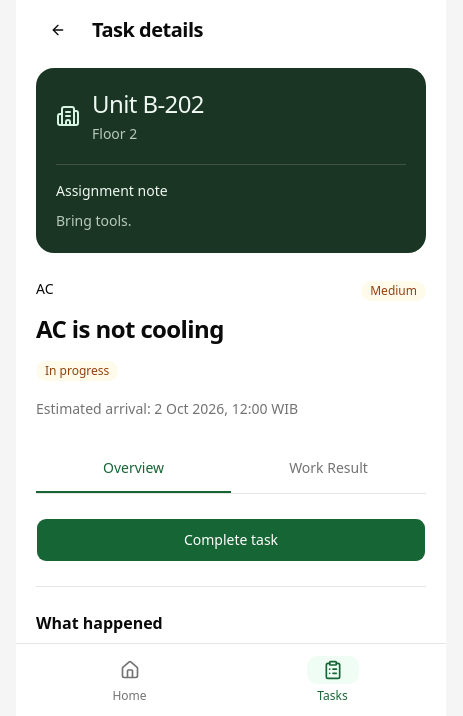
it: uses the detail action to open the separate completion route and exact authenticated GET
Click the link "Complete task".
click(231, 540)  # box [36,518,426,562]
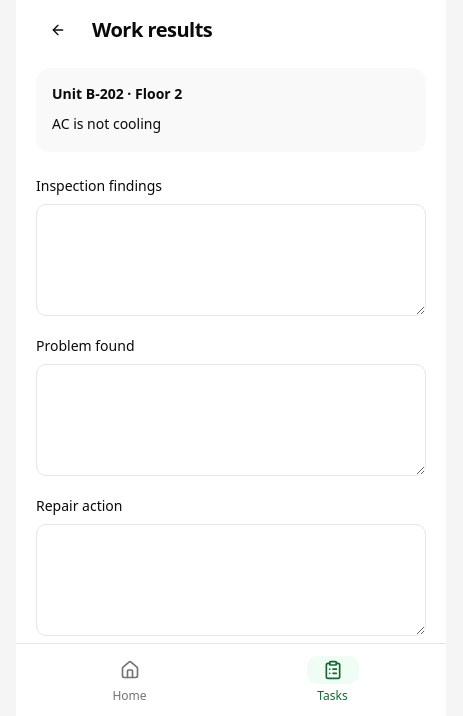
Expected: the heading "Work results" is shown, [92,16,212,44]
Expected: the text box labelled "Inspection findings" is shown, [36,204,426,316]
